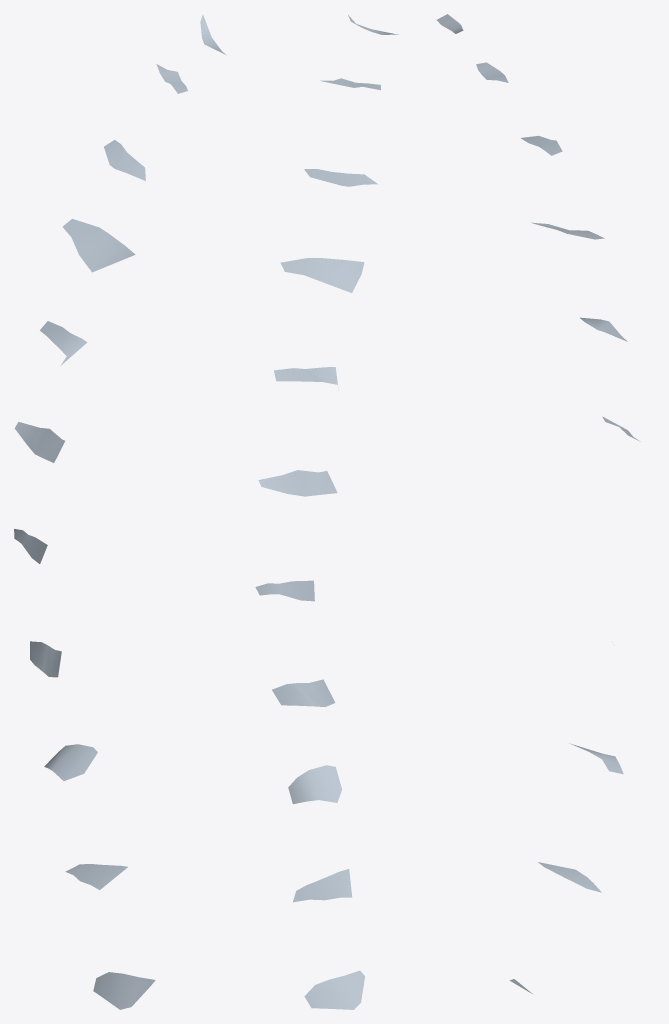
The model's file is costotransverse-ligament-l.glb.
3 views of the same model, side by side, from view 1: azimuth 90°, elevation 25°; view 2: azimuth 150°, elevation 25°; view 3: azimuth 270°, elevation 25° (orthographic). The views are drawn at different scales.
Parts seen in each view (by area): view 1: Costotransverse ligament.l; view 2: Costotransverse ligament.l; view 3: Costotransverse ligament.l.
Part boxes in pixels (<box>): Costotransverse ligament.l: <box>14,14,225,1009</box>; Costotransverse ligament.l: <box>255,15,398,1009</box>; Costotransverse ligament.l: <box>437,14,640,993</box>.
Size of the model in its own units: 0.02 by 0.2668 by 0.0529.
